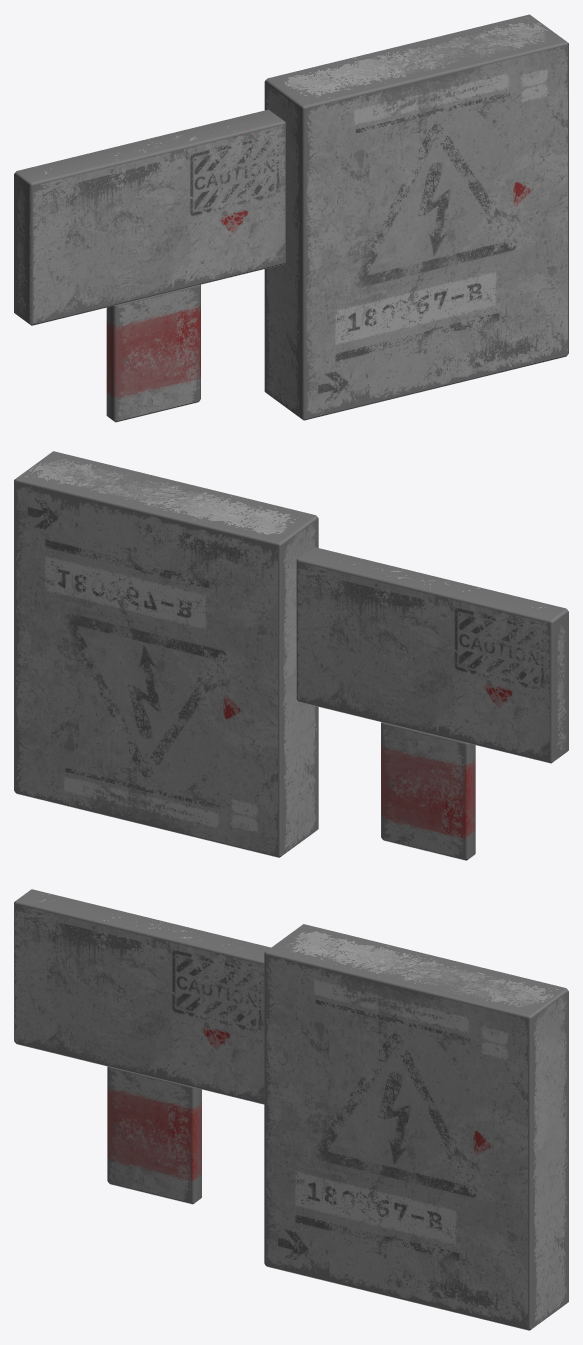
The model's file is SM_Cable_Box.fbx.
The picture shows the model from 3 angles, top to bottom: view 1: azimuth 30°, elevation 25°; view 2: azimuth 150°, elevation 25°; view 3: azimuth 330°, elevation 25°; orthographic projection.
Parts seen in each view (by area): view 1: SM_Cable_Box_LOD0; view 2: SM_Cable_Box_LOD0; view 3: SM_Cable_Box_LOD0.
Part boxes in pixels (x1,y1,x2,y2): SM_Cable_Box_LOD0: (14, 14, 568, 422); SM_Cable_Box_LOD0: (14, 451, 568, 860); SM_Cable_Box_LOD0: (14, 889, 568, 1330).
Size of the model in its own units: 62.85 by 8.18 by 35.82.
1 material, 1 textured.
